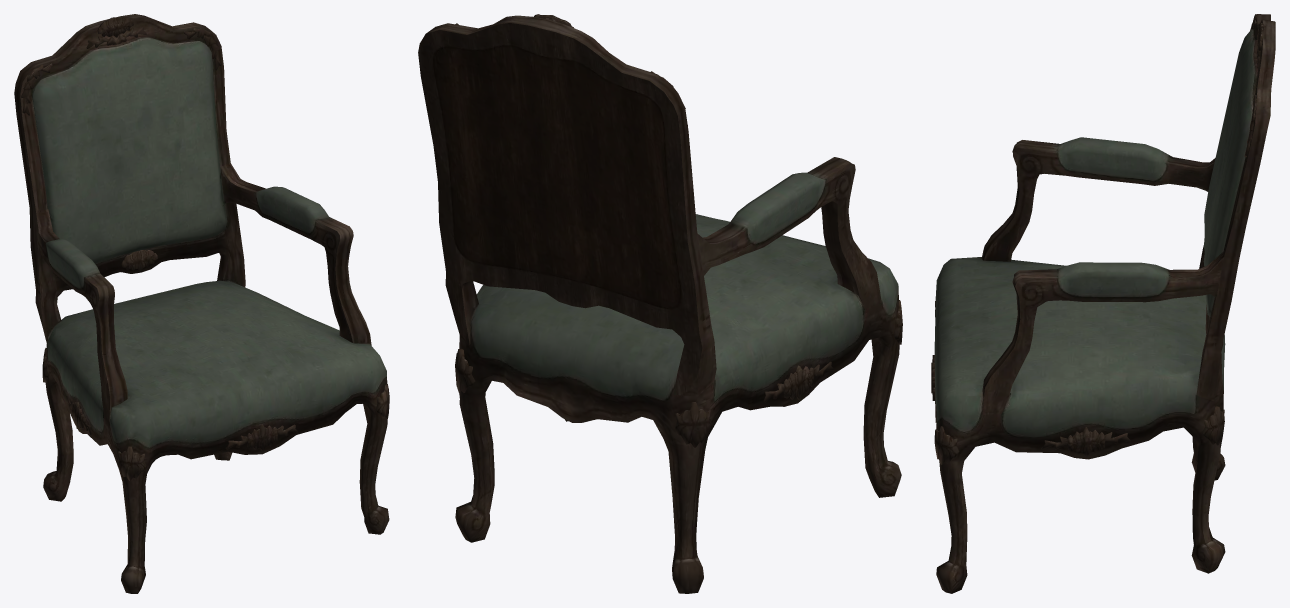
Rendered from GreenChair_01.glb.
3 views of the same model, side by side, from view 1: azimuth 30°, elevation 25°; view 2: azimuth 150°, elevation 25°; view 3: azimuth 270°, elevation 25° (orthographic). The views are drawn at different scales.
Visible parts, largest first — view 1: GreenChair_01; view 2: GreenChair_01; view 3: GreenChair_01.
Boxes of the visible parts, x1,y1,x2,y2 form: GreenChair_01: (14, 14, 389, 593); GreenChair_01: (418, 14, 902, 593); GreenChair_01: (931, 14, 1275, 593).
Size of the model in its own units: 0.6726 by 1.06 by 0.6644.
Materials: 1 (1 with a texture image).
